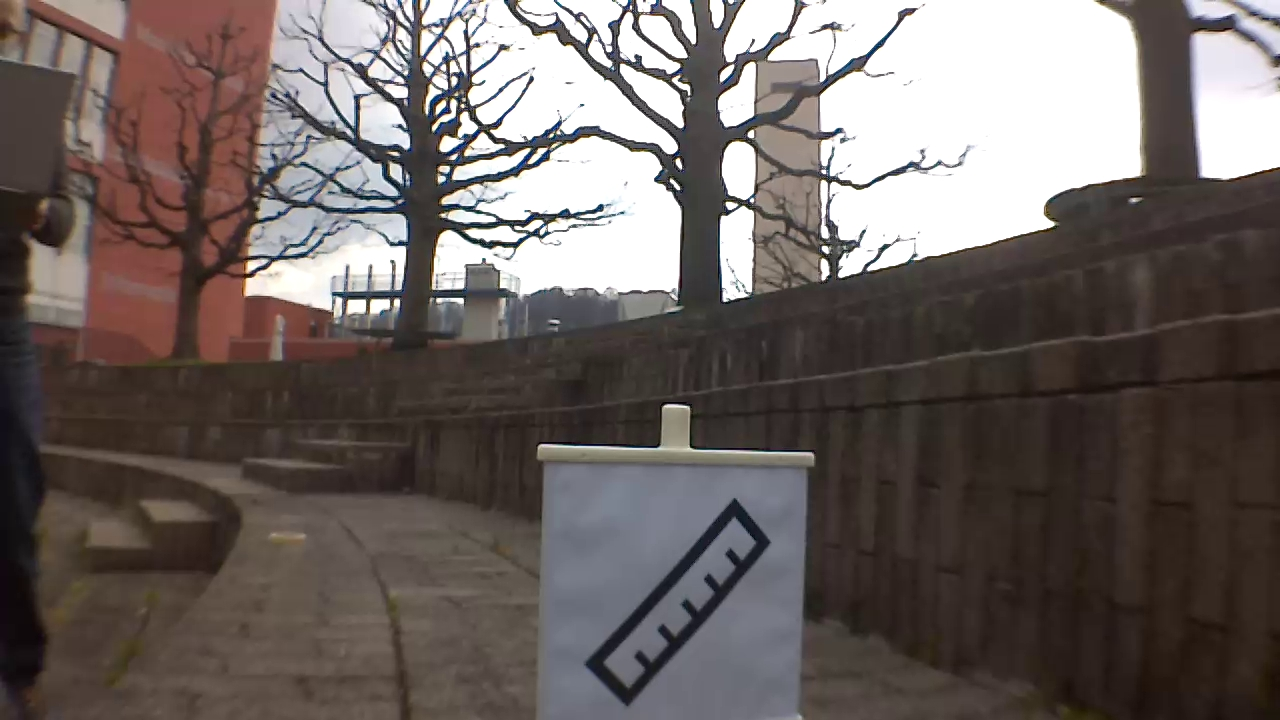ruler: (575, 497, 782, 705)
